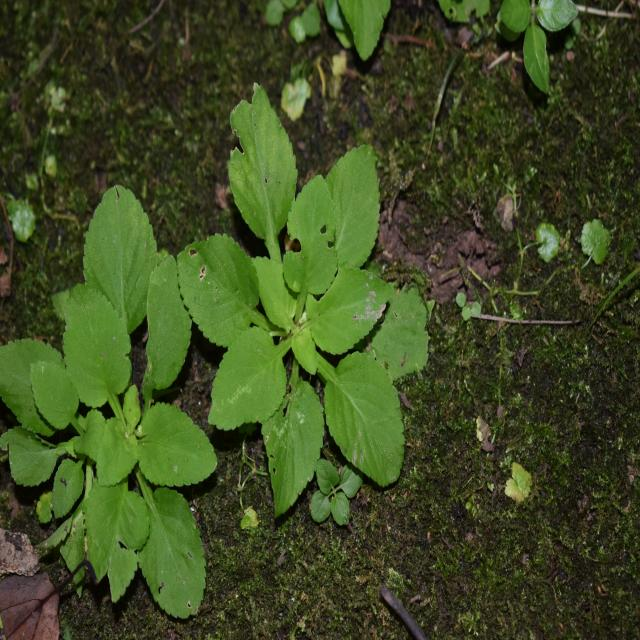Viola: (195, 107, 424, 493), (18, 188, 214, 600)
